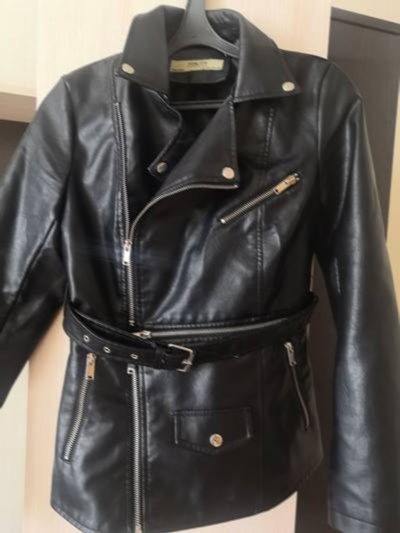Blazer: (0, 23, 396, 530)
